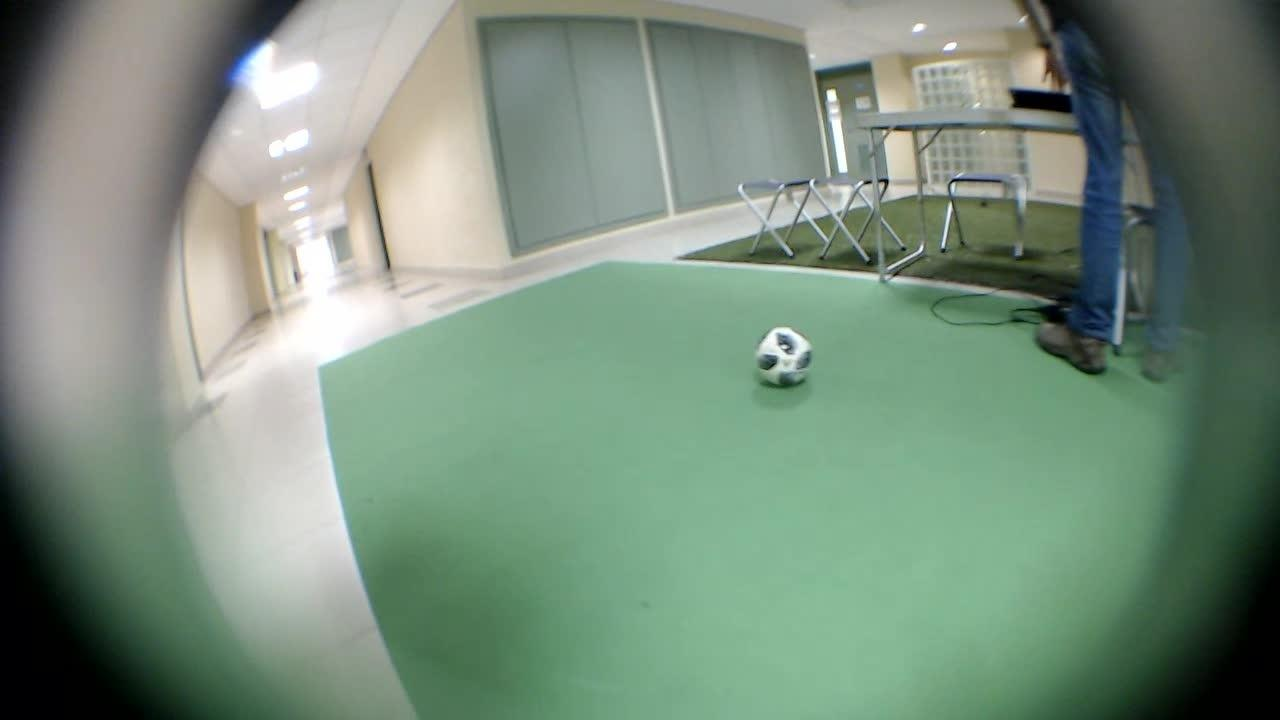ball: (744, 313, 822, 395)
